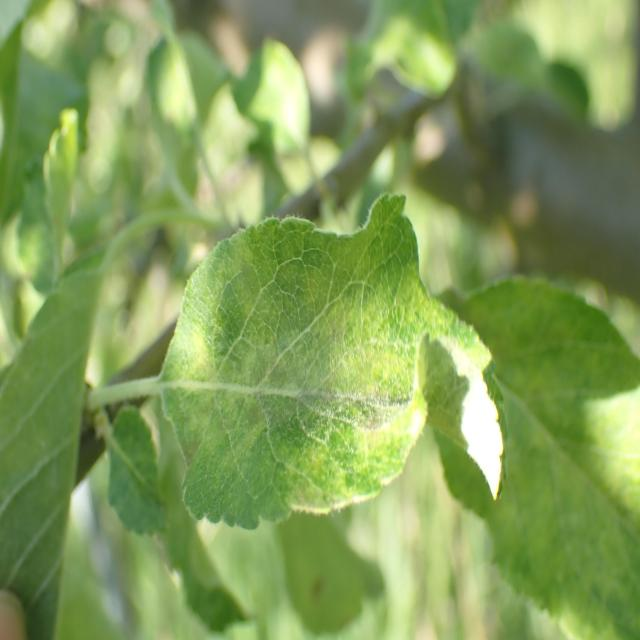scab: (164, 271, 476, 520)
